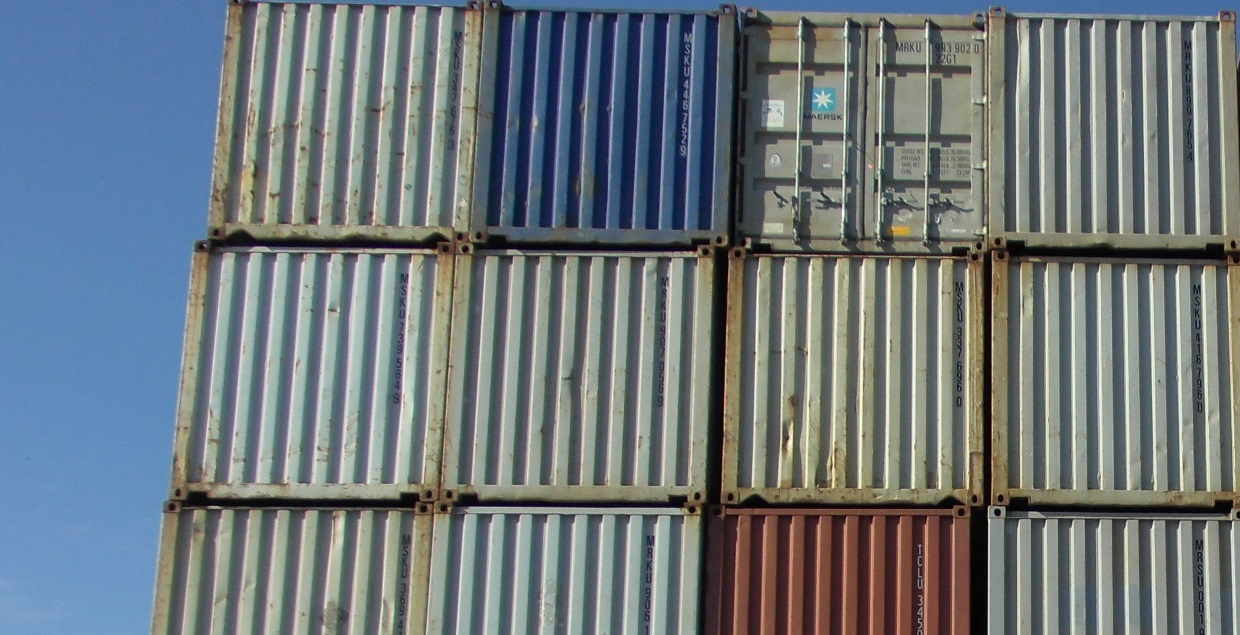container_door: (747, 5, 996, 245)
container_no_door: (453, 240, 729, 499), (171, 249, 446, 508), (717, 248, 992, 506), (194, 8, 487, 238), (992, 250, 1240, 506), (478, 4, 734, 247), (991, 9, 1239, 245), (695, 505, 974, 635), (154, 505, 432, 635), (424, 505, 702, 635), (987, 505, 1239, 635)
